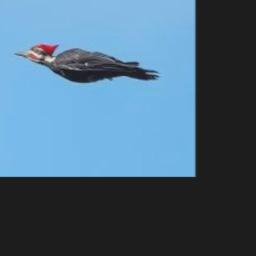Woodpecker: (16, 42, 161, 83)
